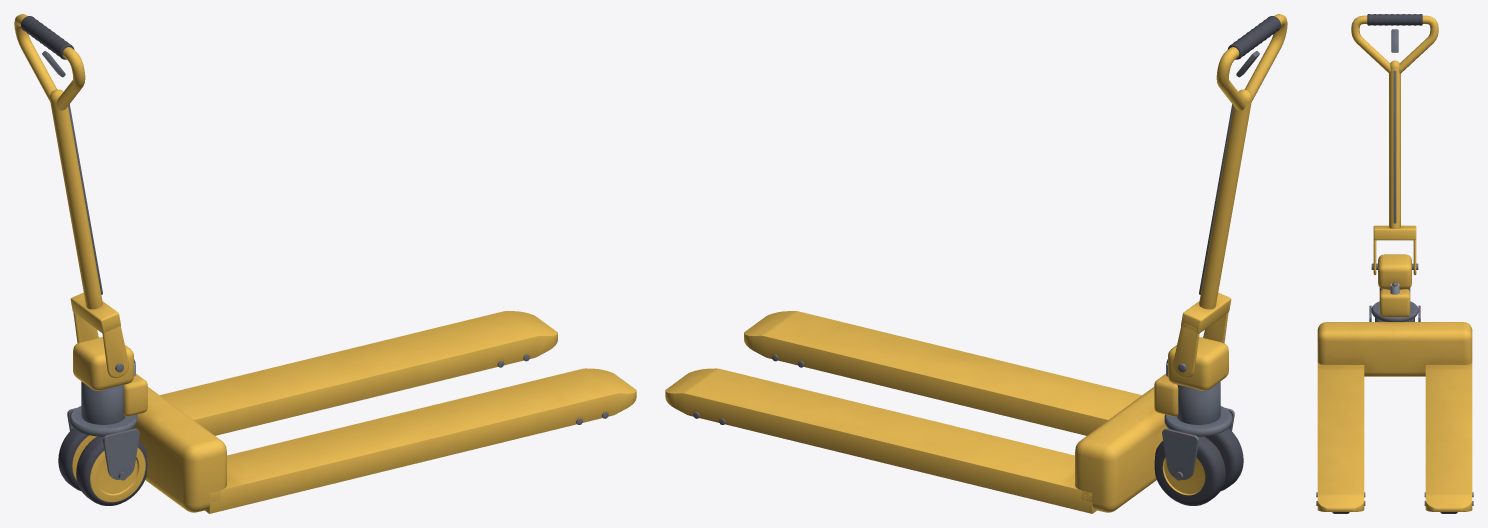
Rendered from pallet-jack.glb.
3 renders of one model, left to right at view 1: azimuth 30°, elevation 25°; view 2: azimuth 150°, elevation 25°; view 3: azimuth 270°, elevation 25°, orthographic. The views are drawn at different scales.
Visible parts, largest first — view 1: pallet-jack_body, pallet-jack_drawbar, pallet-jack_steer_wheels; view 2: pallet-jack_body, pallet-jack_drawbar, pallet-jack_steer_wheels; view 3: pallet-jack_body, pallet-jack_drawbar.
Part boxes in pixels (x1,y1,x2,y2): pallet-jack_body: (67,311,636,513); pallet-jack_drawbar: (14,14,128,377); pallet-jack_steer_wheels: (58,428,147,505); pallet-jack_body: (665,311,1234,513); pallet-jack_drawbar: (1173,14,1287,377); pallet-jack_steer_wheels: (1154,428,1243,505); pallet-jack_body: (1316,254,1473,513); pallet-jack_drawbar: (1351,14,1438,274).
Bounding box in the file's own units: 1.49 × 1.25 × 0.538.
Materials: 3 (3 with a texture image).
